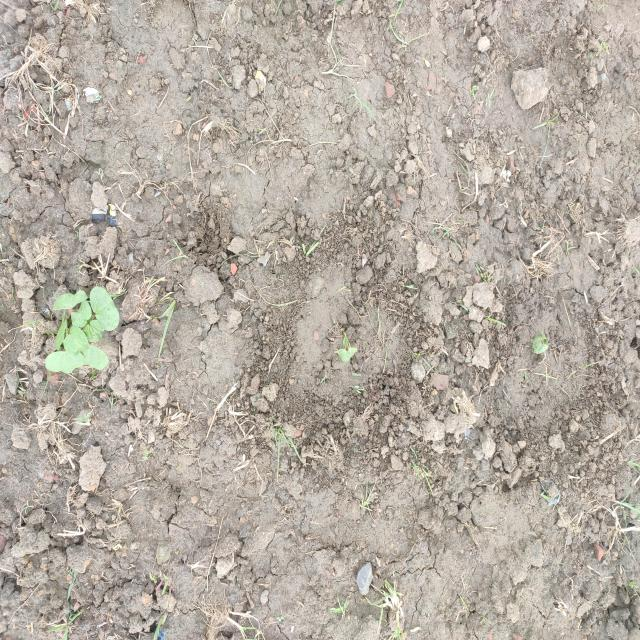seedling: (90, 286, 120, 331), (46, 351, 85, 373), (63, 326, 89, 356), (82, 344, 109, 369), (53, 291, 88, 310), (71, 300, 92, 327), (84, 319, 103, 342), (55, 320, 66, 350), (532, 341, 548, 355), (335, 349, 351, 362), (534, 333, 547, 342), (343, 336, 348, 346)
